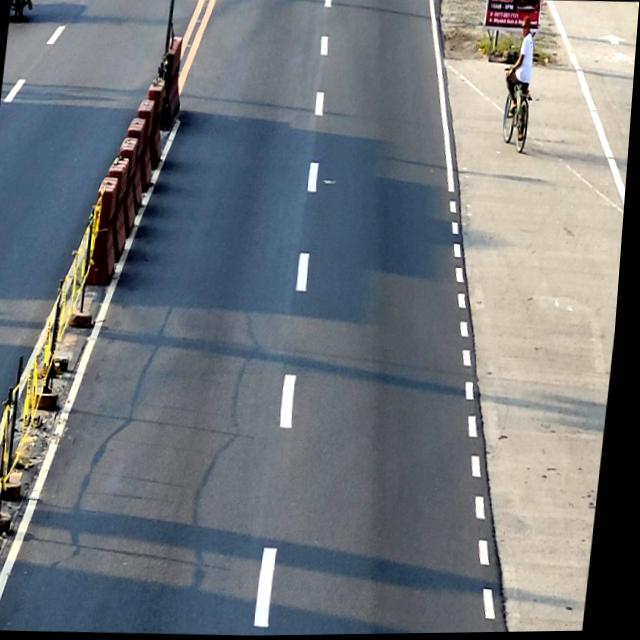Bicycle: (497, 63, 536, 157)
